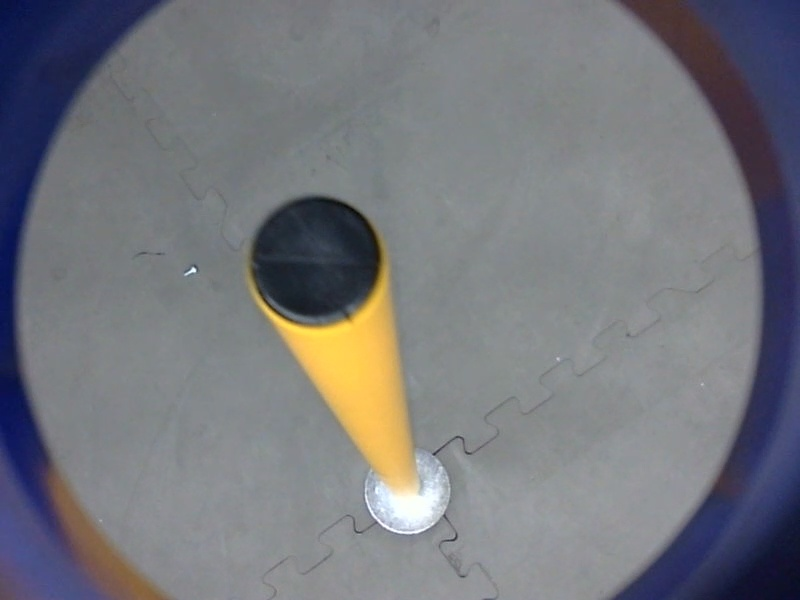tip: (237, 188, 395, 339)
